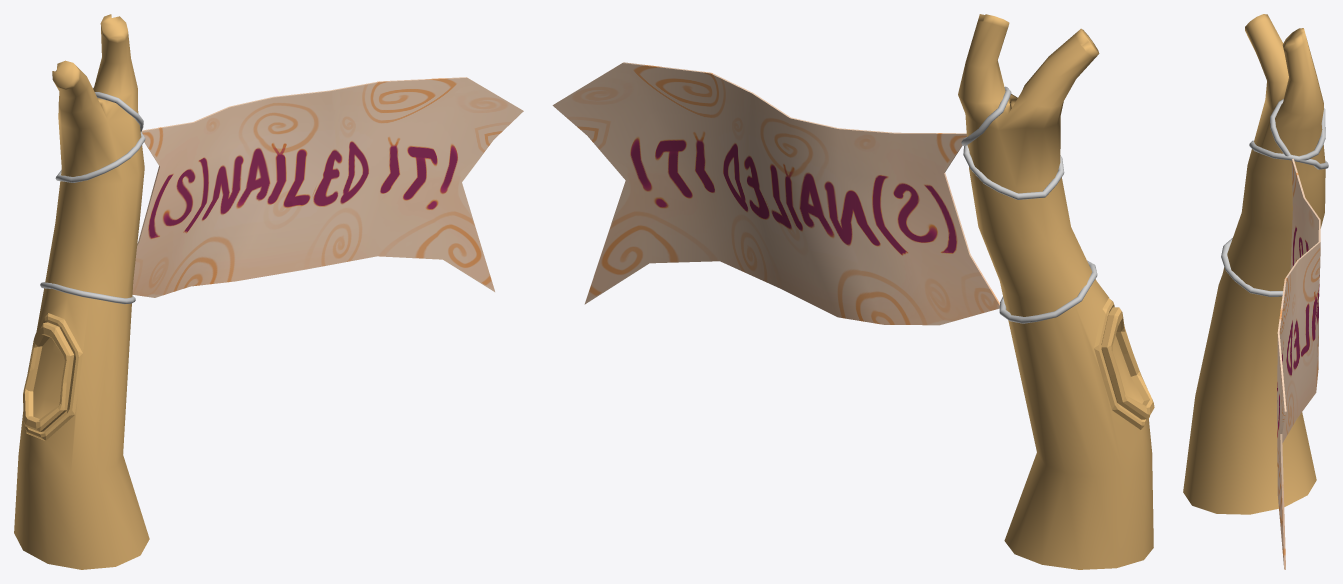
Rendered from 3D_Tronco.fbx.
3 views of the same model, side by side, from view 1: azimuth 30°, elevation 25°; view 2: azimuth 150°, elevation 25°; view 3: azimuth 270°, elevation 25° (orthographic). The views are drawn at different scales.
Visible parts, largest first — view 1: snailed it!, Tronco, Corda; view 2: snailed it!, Tronco, Corda; view 3: Tronco, snailed it!, Corda.
Part boxes in pixels (x1,y1,x2,y2): snailed it!: [132, 77, 523, 297]; Tronco: [14, 14, 149, 569]; Corda: [40, 92, 145, 304]; snailed it!: [552, 62, 999, 325]; Tronco: [958, 14, 1154, 569]; Corda: [961, 86, 1097, 323]; Tronco: [1183, 14, 1325, 514]; snailed it!: [1277, 158, 1320, 569]; Corda: [1221, 99, 1328, 296].
Size of the model in its own units: 224 by 203 by 54.9.
